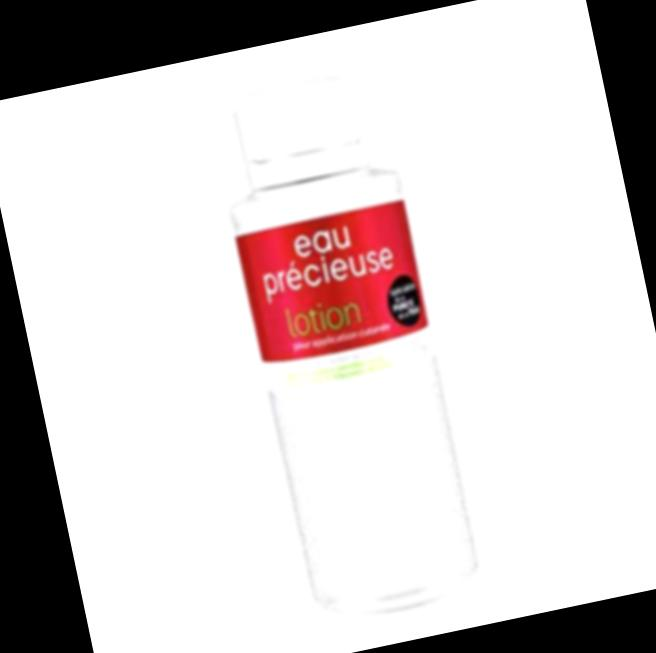cosmetic: (205, 67, 481, 605)
